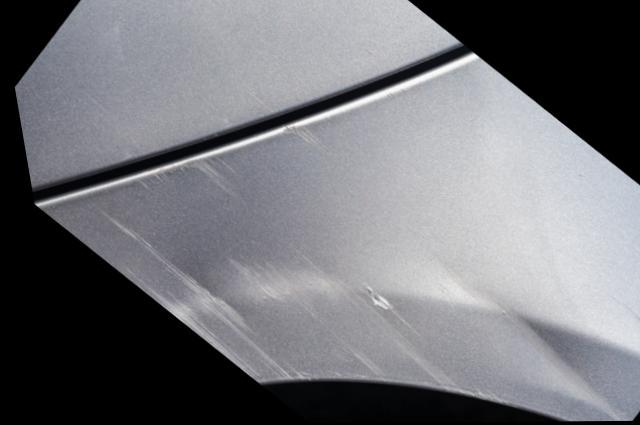scratch: (104, 119, 495, 401), (436, 256, 613, 422), (612, 304, 640, 335)
